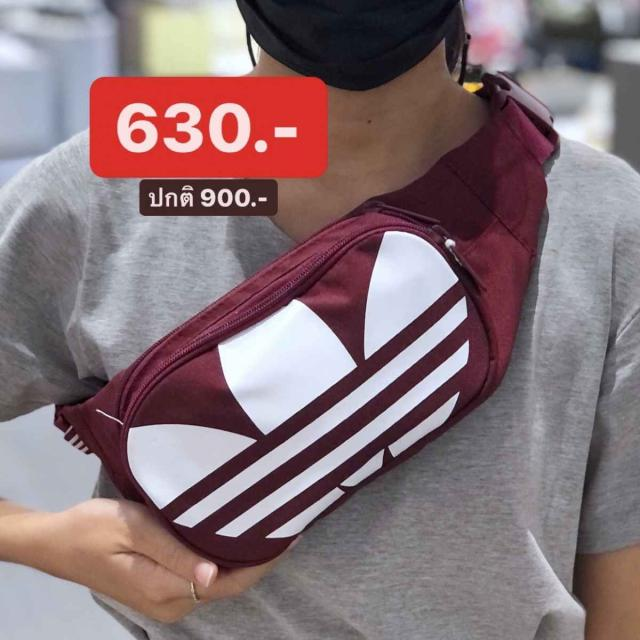handbag: (47, 138, 554, 584)
